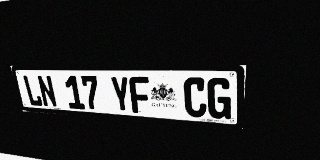1: (63, 76, 85, 109)
7: (80, 76, 102, 111)
C: (183, 77, 207, 118)
F: (129, 76, 151, 114)
G: (207, 78, 232, 119)
L: (22, 75, 43, 107)
N: (36, 75, 58, 108)
Y: (109, 76, 132, 113)
